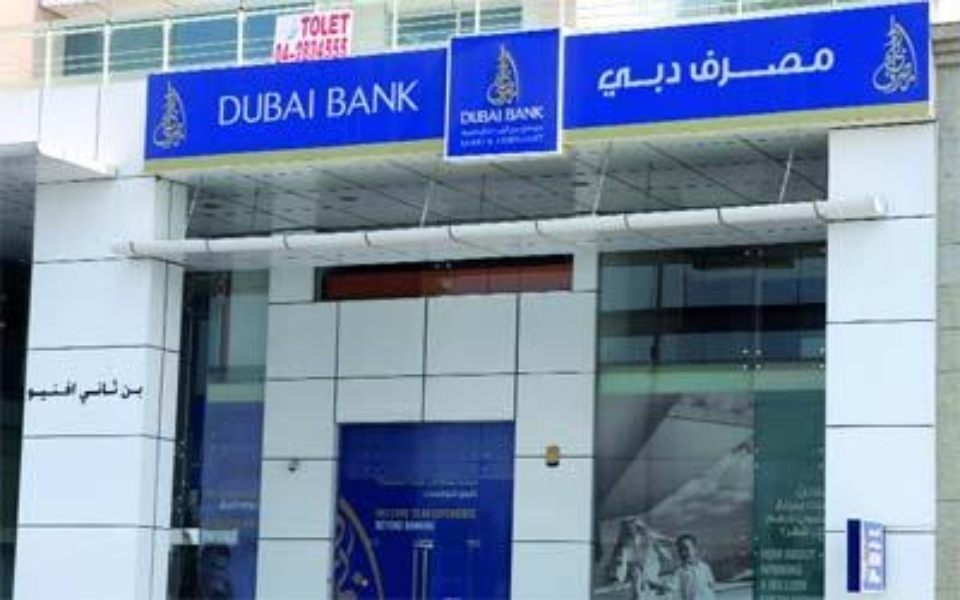text: (865, 519, 880, 593), (769, 478, 784, 543), (785, 478, 800, 543), (801, 478, 816, 543), (753, 543, 768, 598), (769, 543, 784, 598), (785, 543, 800, 598), (801, 543, 816, 598), (689, 39, 704, 92), (705, 39, 720, 92), (721, 39, 736, 92), (737, 39, 752, 92), (753, 39, 768, 92), (769, 39, 784, 92), (785, 39, 800, 92), (801, 39, 816, 92), (817, 39, 832, 92), (609, 58, 624, 101), (625, 58, 640, 101), (641, 58, 656, 101), (657, 58, 672, 101), (337, 77, 352, 118), (353, 77, 368, 118), (369, 77, 384, 118), (385, 77, 400, 118), (401, 77, 416, 118), (225, 87, 240, 128), (241, 87, 256, 128), (257, 87, 272, 128), (273, 87, 288, 128), (289, 87, 304, 128), (817, 478, 826, 543), (385, 502, 400, 536), (401, 502, 416, 536), (417, 502, 432, 536), (433, 502, 448, 536), (449, 502, 464, 536), (305, 87, 317, 128), (370, 502, 384, 536), (465, 121, 480, 152), (481, 121, 496, 152), (497, 121, 512, 152), (513, 121, 528, 152), (305, 10, 320, 41), (321, 10, 336, 41), (337, 10, 352, 41), (465, 502, 478, 536), (529, 121, 543, 152), (673, 58, 682, 101), (327, 77, 336, 118), (289, 39, 304, 63), (305, 39, 320, 63), (321, 39, 336, 63), (129, 380, 144, 404), (33, 380, 48, 404), (49, 380, 64, 404), (65, 380, 80, 404), (81, 380, 96, 404), (97, 380, 112, 404), (385, 476, 400, 500), (401, 476, 416, 500), (417, 476, 432, 500), (433, 476, 448, 500), (449, 476, 464, 500), (465, 476, 480, 500), (337, 39, 351, 63), (217, 87, 224, 128), (465, 106, 480, 125), (481, 106, 496, 125), (529, 106, 545, 123), (277, 39, 288, 63), (513, 106, 528, 123), (417, 77, 423, 118), (881, 519, 884, 593), (817, 543, 821, 598), (375, 476, 384, 500), (603, 58, 608, 101), (113, 380, 121, 404), (454, 106, 464, 125), (121, 380, 128, 404), (685, 39, 688, 92), (833, 39, 836, 92), (497, 106, 505, 125), (862, 519, 864, 593), (766, 478, 768, 543), (27, 380, 32, 404), (505, 106, 512, 123), (461, 121, 464, 152), (353, 10, 356, 41), (145, 380, 147, 404), (481, 476, 483, 500), (303, 10, 304, 41)
